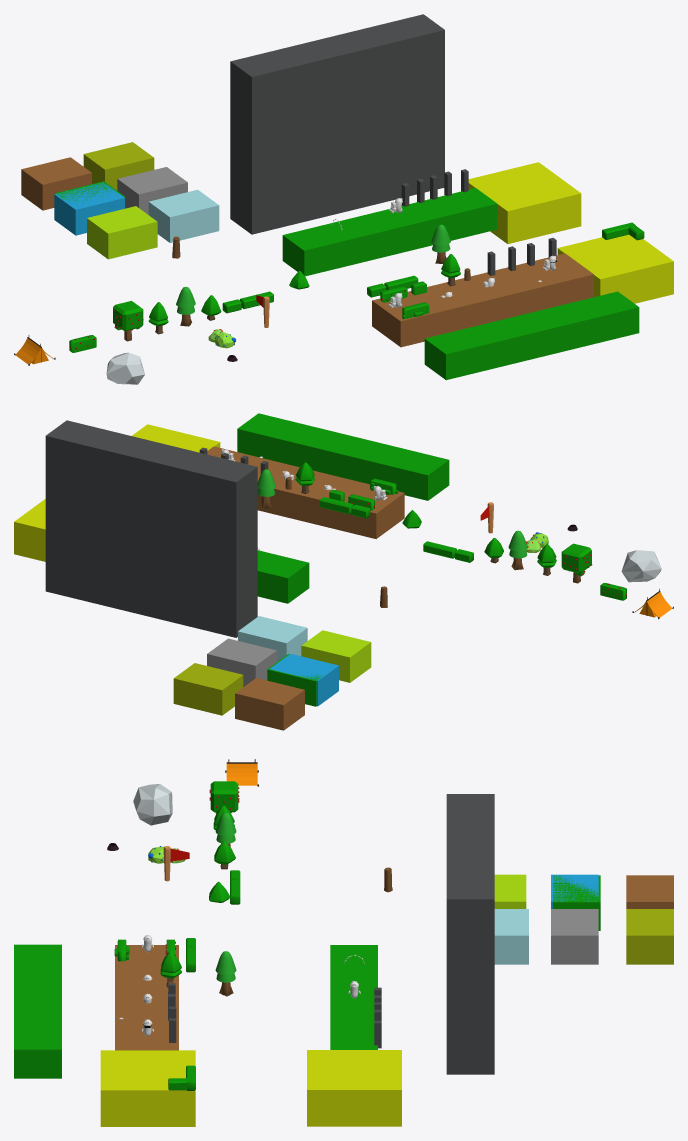
File: ModeloBaseArte.fbx
The picture shows the model from 3 angles, top to bottom: view 1: azimuth 30°, elevation 25°; view 2: azimuth 150°, elevation 25°; view 3: azimuth 270°, elevation 25°; orthographic projection. The views are drawn at different scales.
Parts seen in each view (by area): view 1: Cube.003, Modelo camino 2, Cube.004, Cube.001, Cube.002, Cube.007, Cube.012, Cube.011, Cube.006, Cube.010, Cube.008, Cube.009 (+3 smaller); view 2: Cube.003, Cube.004, Modelo camino 2, Cube.006, Cube.008, Cube.012, Cube.001, Cube.009, Cube.011, Cube.010, Cube.002, Cube.007 (+3 smaller); view 3: Cube.003, Cube.002, Cube.007, Cube.004, Modelo camino 2, Cube.001, Cube.008, Cube.009, Cube.011, Cube.006, PiedraObstaculo, Cube.013 (+4 smaller).
Boxes of the visible parts, x1,y1,x2,y2 form: Cube.003: [230, 14, 444, 234]; Modelo camino 2: [372, 253, 593, 347]; Cube.004: [424, 291, 639, 380]; Cube.001: [282, 188, 497, 276]; Cube.002: [468, 162, 581, 243]; Cube.007: [557, 234, 673, 303]; Cube.012: [87, 206, 157, 259]; Cube.011: [148, 189, 219, 242]; Cube.006: [21, 157, 91, 210]; Cube.010: [54, 182, 124, 235]; Cube.008: [83, 142, 154, 190]; Cube.009: [117, 167, 187, 214]; Cube.003: [45, 420, 257, 637]; Cube.004: [237, 413, 449, 500]; Modelo camino 2: [207, 446, 404, 538]; Cube.006: [235, 678, 304, 730]; Cube.008: [173, 663, 243, 715]; Cube.012: [301, 630, 371, 682]; Cube.001: [257, 550, 309, 603]; Cube.009: [207, 638, 276, 686]; Cube.011: [238, 616, 307, 661]; Cube.010: [269, 653, 338, 706]; Cube.002: [14, 499, 45, 561]; Cube.007: [132, 424, 220, 452]; Cube.003: [446, 794, 494, 1074]; Cube.002: [307, 1050, 401, 1126]; Cube.007: [100, 1050, 195, 1126]; Cube.004: [14, 944, 61, 1078]; Modelo camino 2: [115, 945, 178, 1050]; Cube.001: [330, 945, 377, 1049]; Cube.008: [626, 909, 673, 964]; Cube.009: [551, 909, 598, 964]; Cube.011: [494, 909, 528, 964]; Cube.006: [626, 875, 673, 908]; PiedraObstaculo: [133, 784, 172, 825]; Cube.013: [553, 875, 600, 930].
Bounding box in the file's own units: 4769 × 1301 × 4145.
